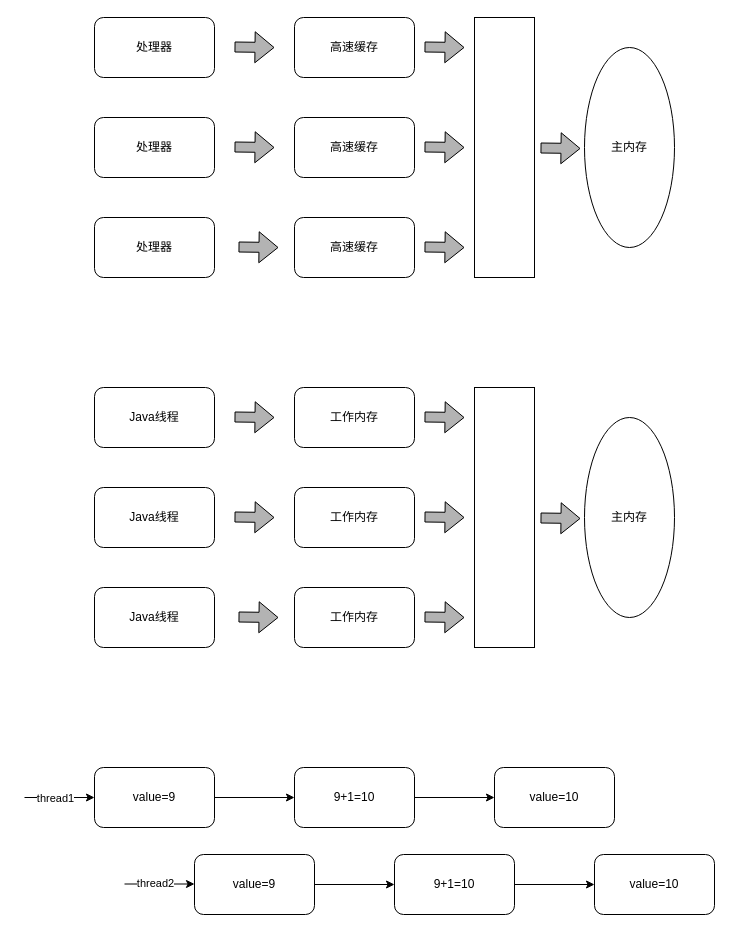
Some shapes in this 732 by 932 pixel diagram are drawn without their labels. The shapes that lost their labels are listed below. From the top down, each one's centre as x and y in pixels, then its label:
the point at 504,147: 缓存一致性协议
the point at 504,517: Save 和 Load 操作
